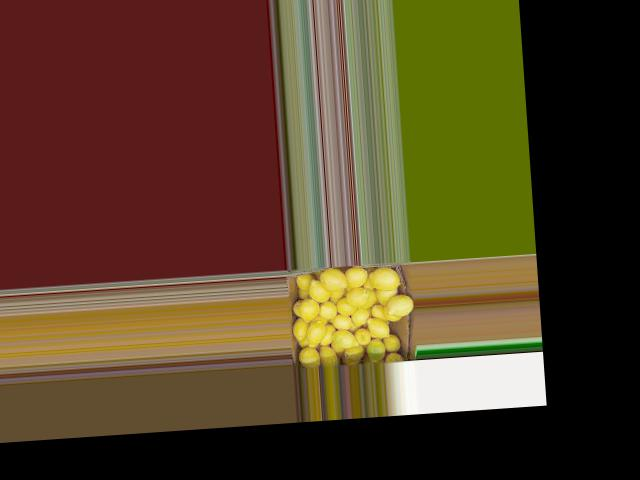lemon: (351, 308, 368, 327)
